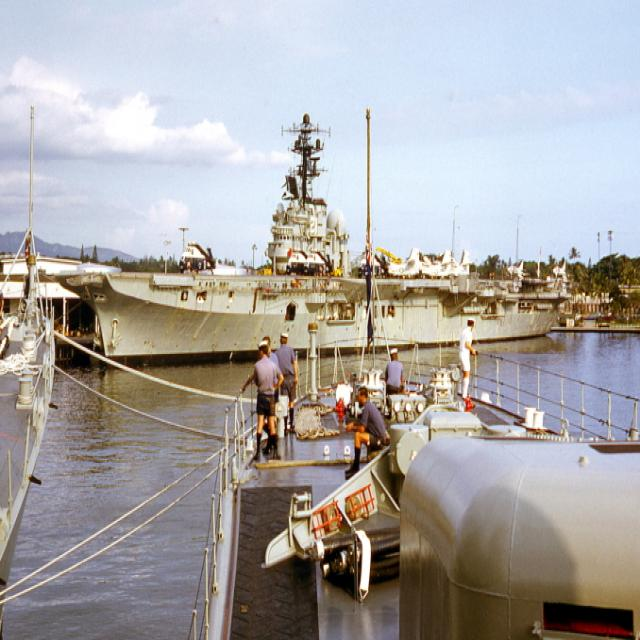Portanaves: (53, 85, 573, 371)
